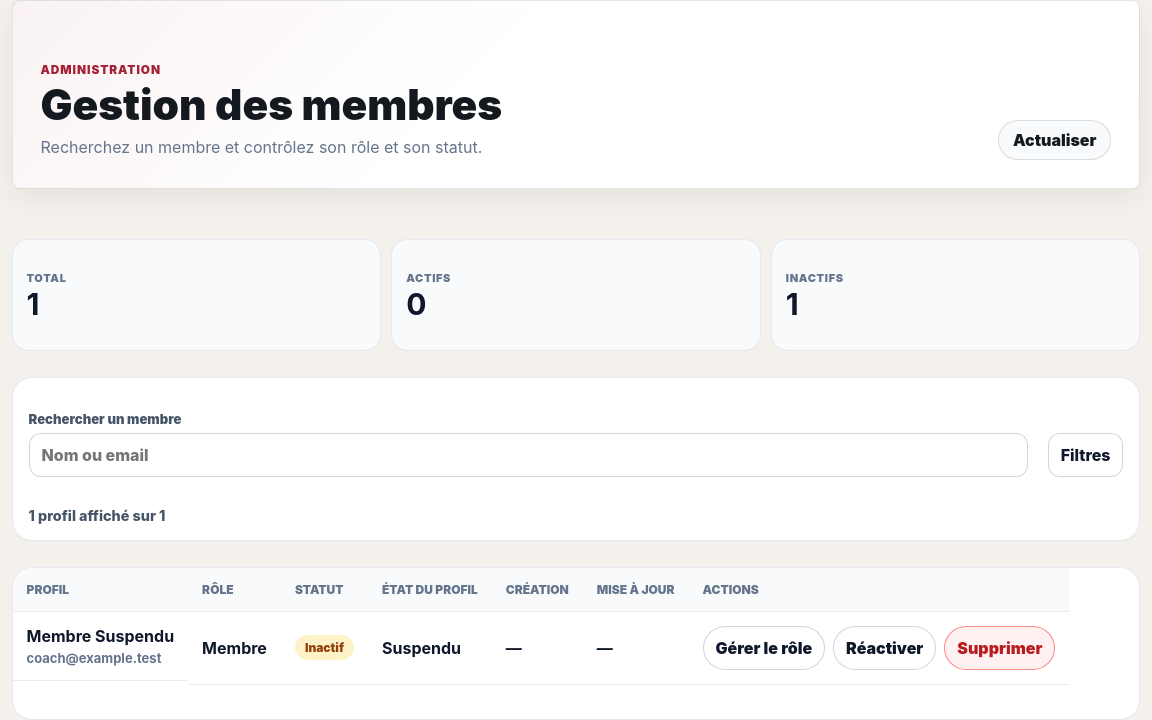
Test: rôles et statuts des membres › réactive un profil suspendu
This screenshot has width=1152, height=720.
Click the button "Réactiver": (885, 648) [833,626,936,670]
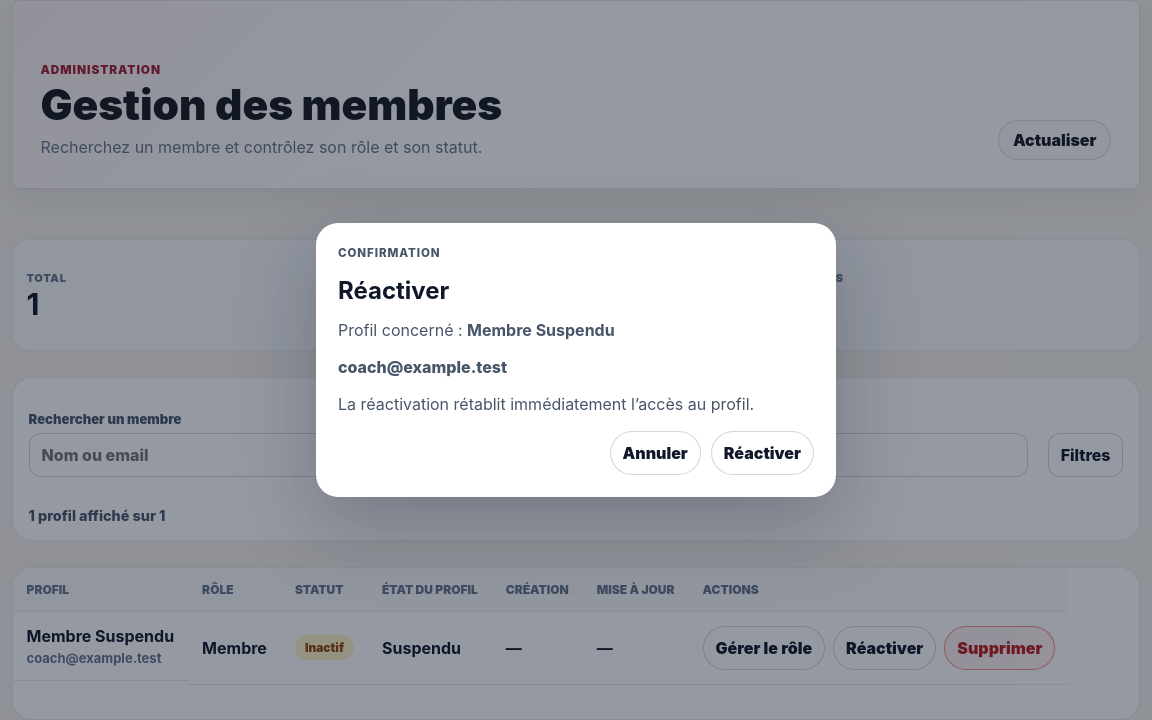
Click the button "Réactiver": (762, 453) [711,431,814,475]
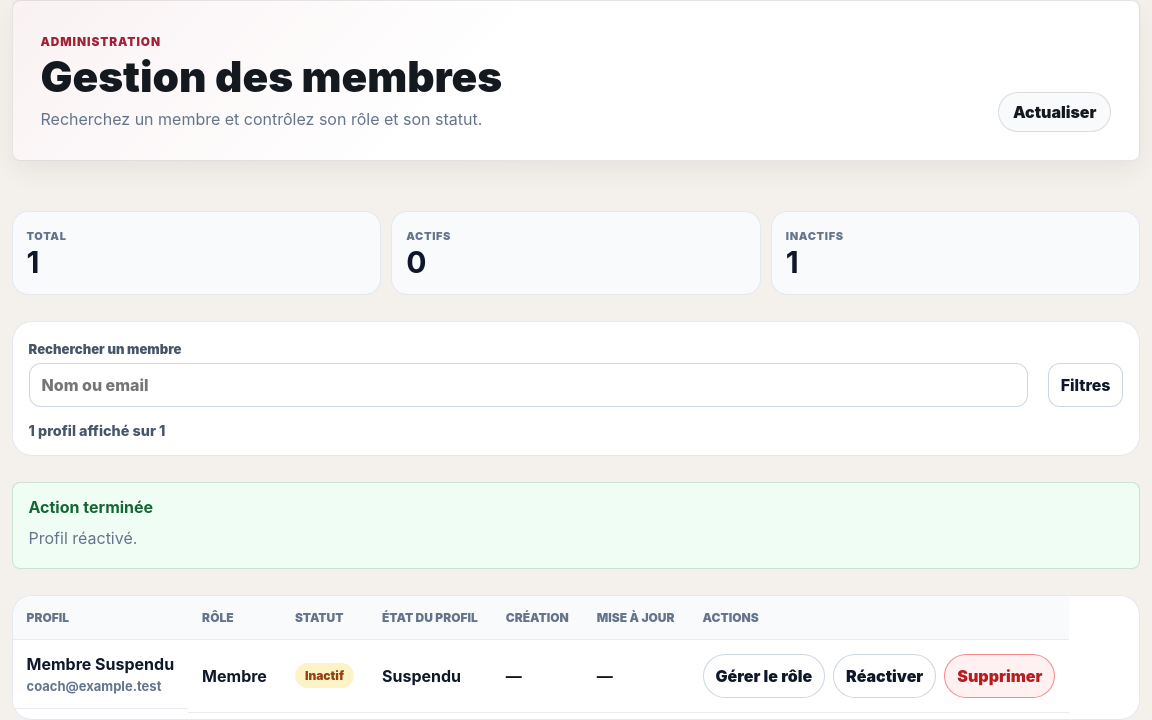
Expected: the text "Profil réactivé." is shown, [28,528,137,548]
